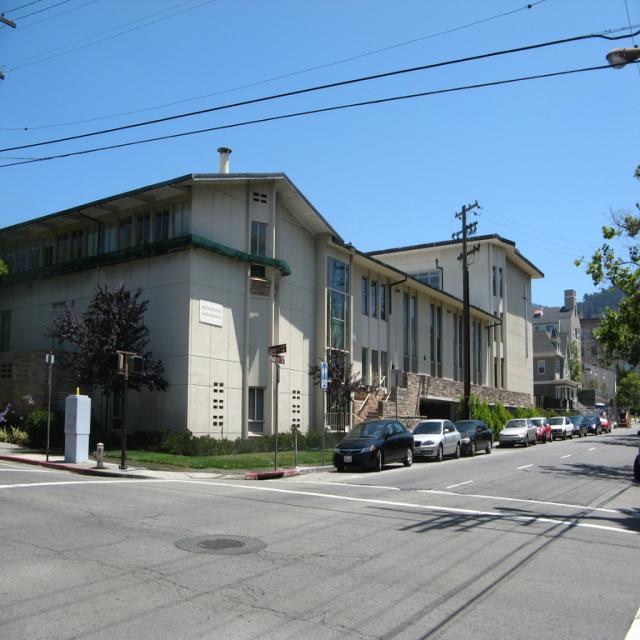car: (333, 418, 414, 470)
